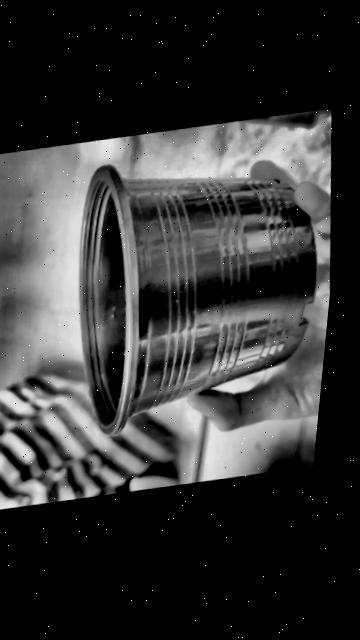pot: (80, 165, 317, 433)
